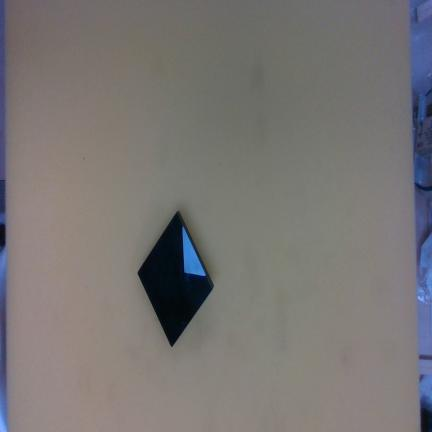tile: (119, 212, 229, 348)
